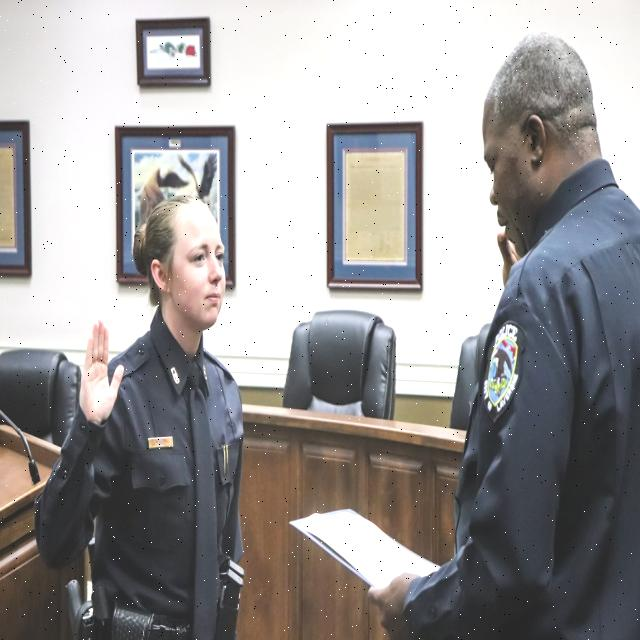police: (450, 11, 640, 640), (59, 188, 277, 640)
